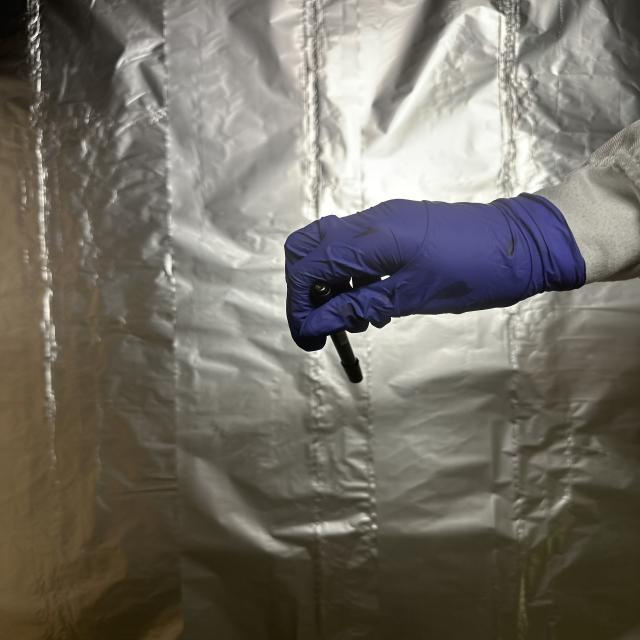gloves_contaminated: (285, 194, 585, 351)
